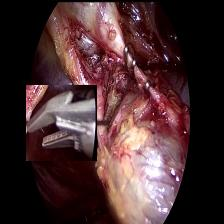Clipper: (25, 84, 96, 160)
